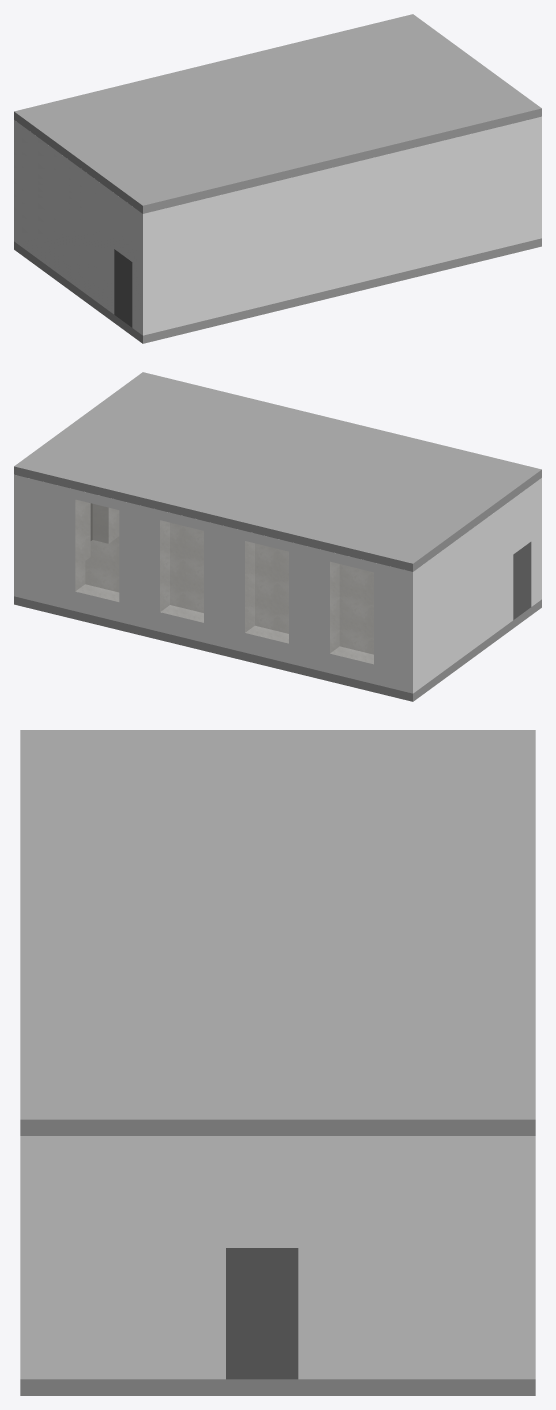
Rendered from Satellit_new-transformed.glb.
The picture shows the model from 3 angles, top to bottom: view 1: azimuth 30°, elevation 25°; view 2: azimuth 150°, elevation 25°; view 3: azimuth 270°, elevation 25°; orthographic projection. The views are drawn at different scales.
Parts seen in each view (by area): view 1: Grundriss.002, Decke.001, Tür2.001; view 2: Decke.001, Grundriss.002, Fenster.001, Tür2.001; view 3: Decke.001, Grundriss.002, Tür2.001.
Boxes of the visible parts, x1,y1,x2,y2 form: Grundriss.002: [14, 116, 541, 335]; Decke.001: [14, 14, 541, 343]; Tür2.001: [114, 249, 132, 327]; Decke.001: [14, 372, 541, 701]; Grundriss.002: [14, 474, 541, 693]; Fenster.001: [75, 499, 373, 664]; Tür2.001: [90, 503, 531, 619]; Decke.001: [20, 730, 535, 1395]; Grundriss.002: [20, 1136, 535, 1379]; Tür2.001: [226, 1248, 298, 1379].
Size of the model in its own units: 12.7 by 4.2 by 7.1.
5 materials, 1 textured.
